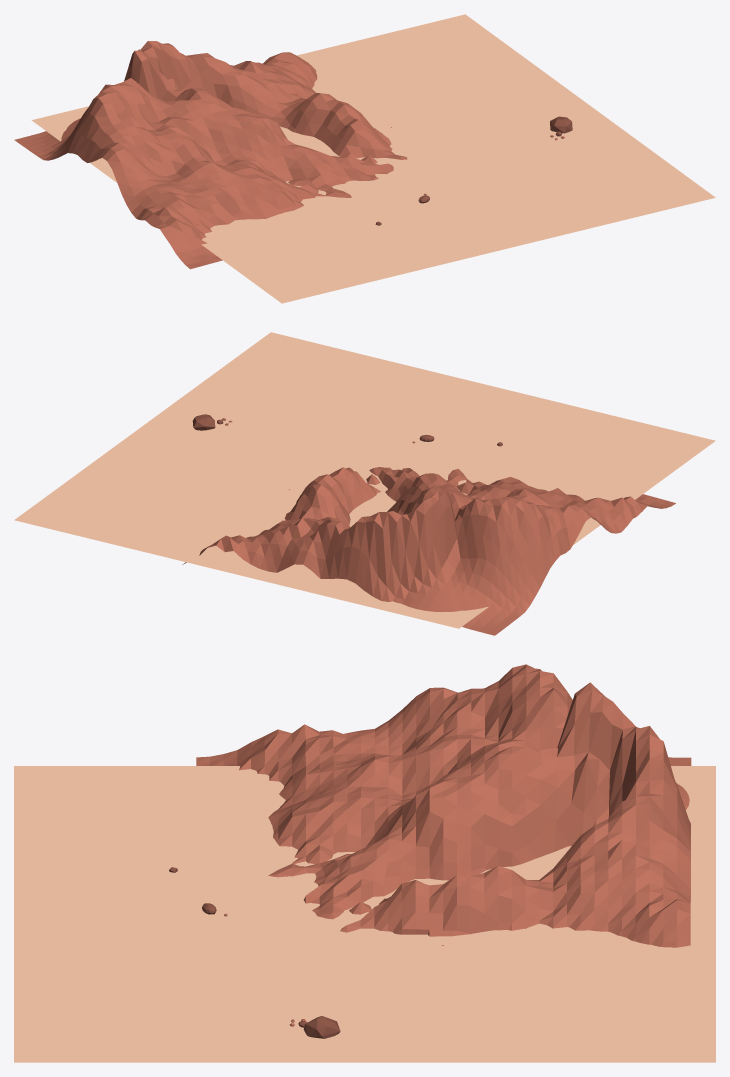
3 views of the same model, one above another, from view 1: azimuth 30°, elevation 25°; view 2: azimuth 150°, elevation 25°; view 3: azimuth 270°, elevation 25° (orthographic). The views are drawn at different scales.
Visible parts, largest first — view 1: Plane.001, Plane; view 2: Plane.001, Plane; view 3: Plane.001, Plane, Icosphere.
Boxes of the visible parts, x1,y1,x2,y2 form: Plane.001: (31,14,715,303); Plane: (14,41,407,269); Plane.001: (14,332,715,628); Plane: (182,467,675,635); Plane.001: (14,766,715,1062); Plane: (196,664,691,947); Icosphere: (303,1016,340,1038).
Size of the model in its own units: 3831 by 1192 by 3599.
